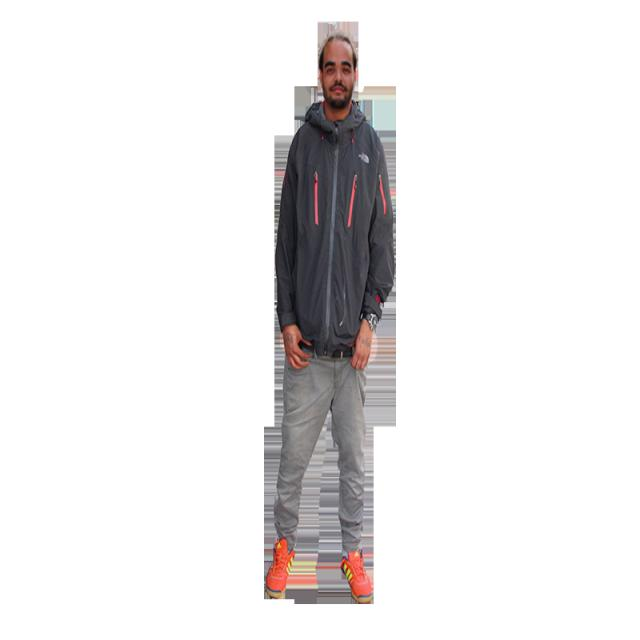jovem: (251, 28, 401, 616)
